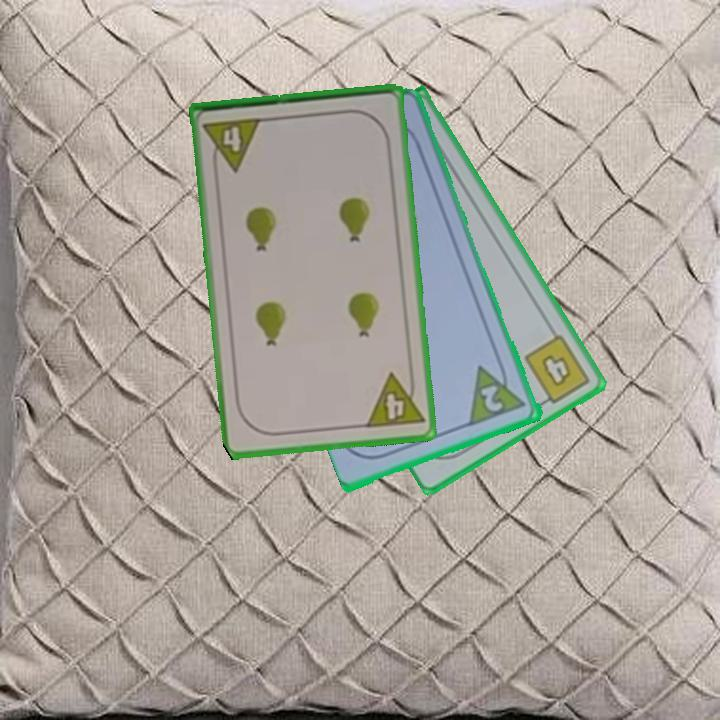2p: (466, 356, 530, 429)
4b: (521, 330, 594, 410)
4p: (362, 368, 427, 431), (200, 114, 265, 175)
